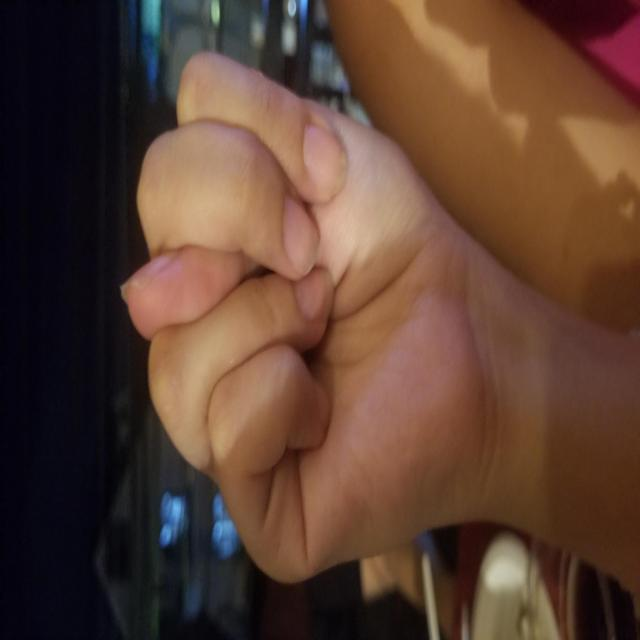N: (52, 115, 591, 473)
